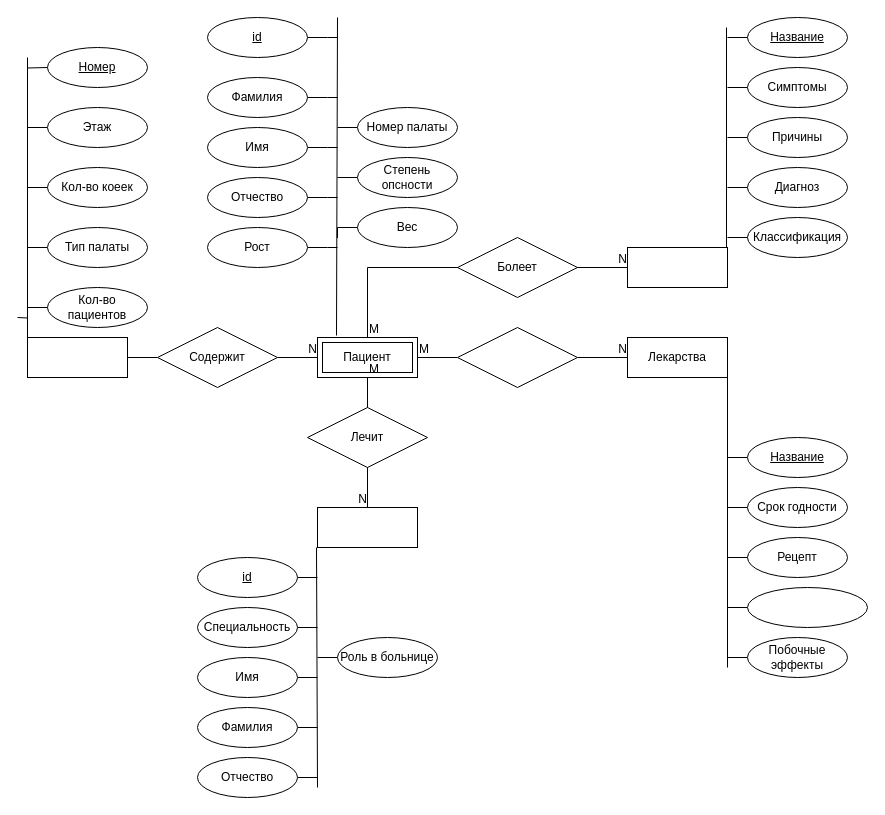
This 885x815 diagram has some shape labels left out. Each missing label, with the centre of its shape:
Врач: the point at 367,527
Заболевание: the point at 677,267
Палата: the point at 77,357
Принимает: the point at 517,357
Противопоказание: the point at 807,607
